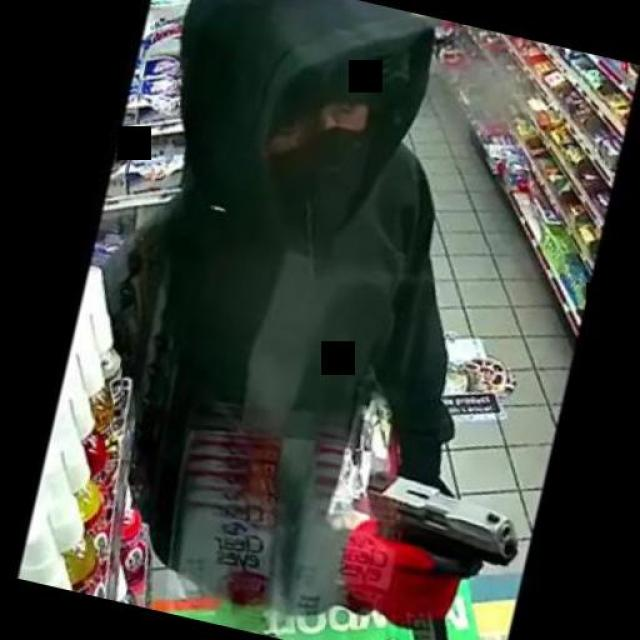gun: (329, 456, 531, 640)
